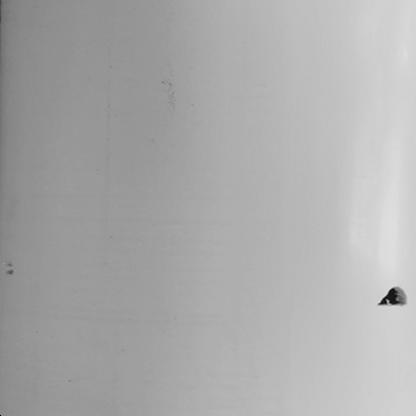kongdong: (372, 281, 412, 312)
